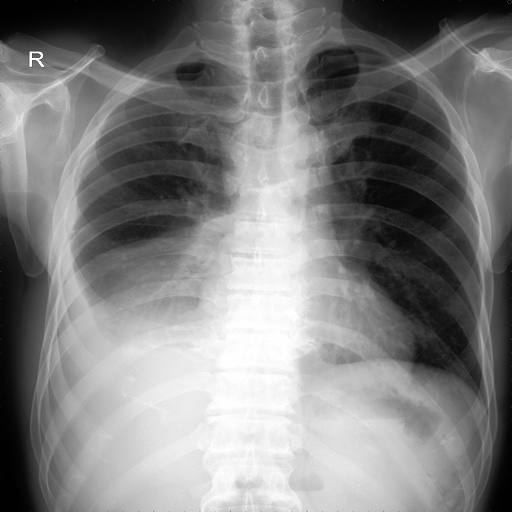Aortic enlargement: (94, 243, 199, 308)
ILD: (94, 243, 199, 308)
Pleural effusion: (43, 247, 217, 388)
Pleural thickening: (85, 218, 228, 318)
